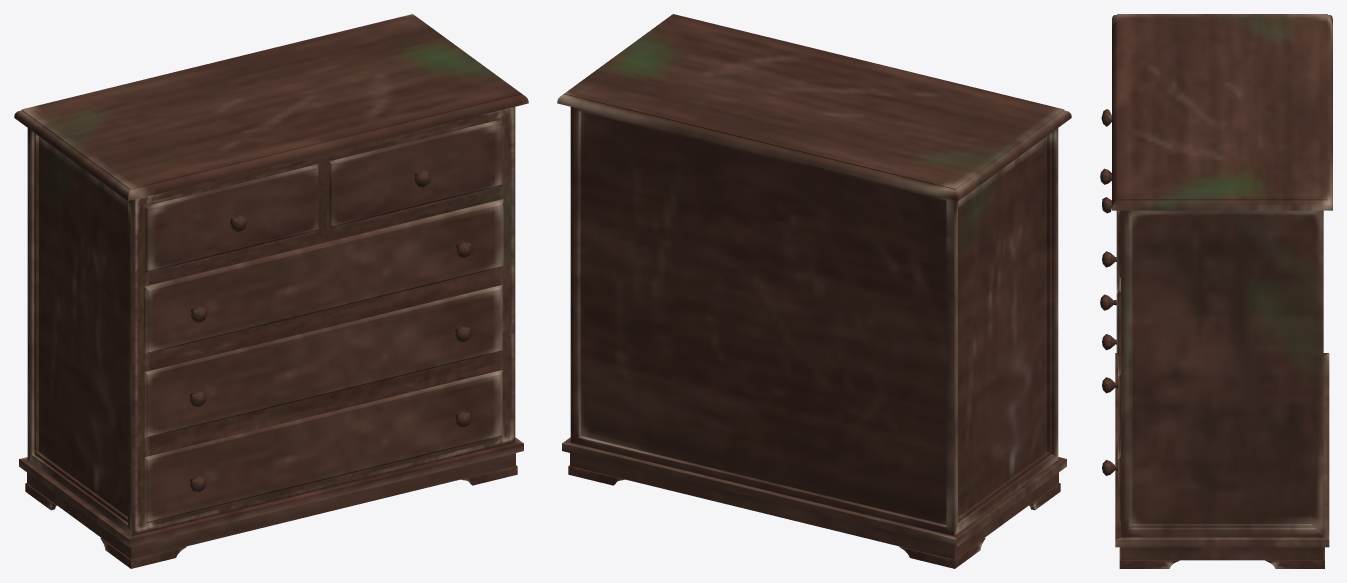
File: ChestOfDrawersAct 1.fbx
3 renders of one model, left to right at view 1: azimuth 30°, elevation 25°; view 2: azimuth 150°, elevation 25°; view 3: azimuth 270°, elevation 25°, orthographic. The views are drawn at different scales.
Visible parts, largest first — view 1: Mueble base.001; view 2: Mueble base.001; view 3: Mueble base.001.
Boxes of the visible parts, x1,y1,x2,y2 form: Mueble base.001: (14, 14, 528, 568); Mueble base.001: (557, 14, 1071, 568); Mueble base.001: (1100, 14, 1332, 568).
Size of the model in its own units: 243 by 221 by 126.
1 material, 1 textured.
